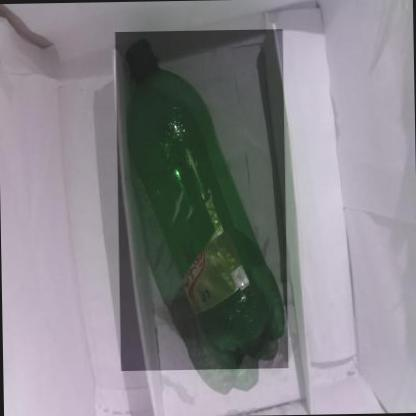plastic_bottles: (116, 30, 289, 372)
